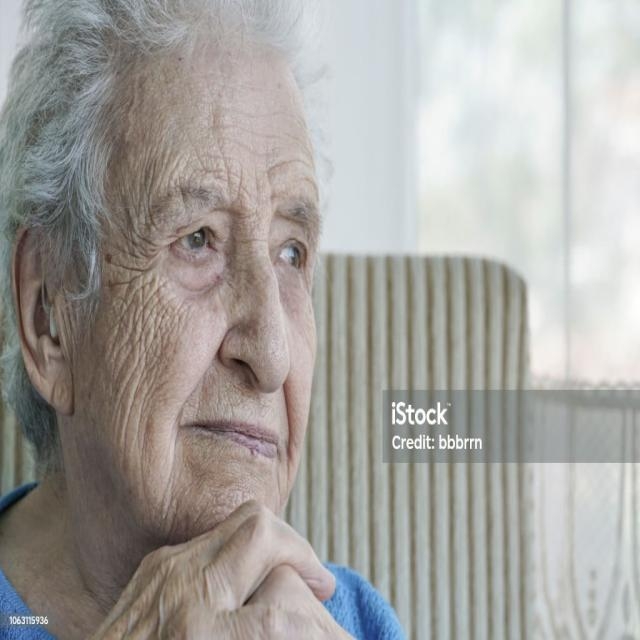dry: (96, 219, 178, 422), (208, 87, 297, 180), (248, 270, 314, 380)
